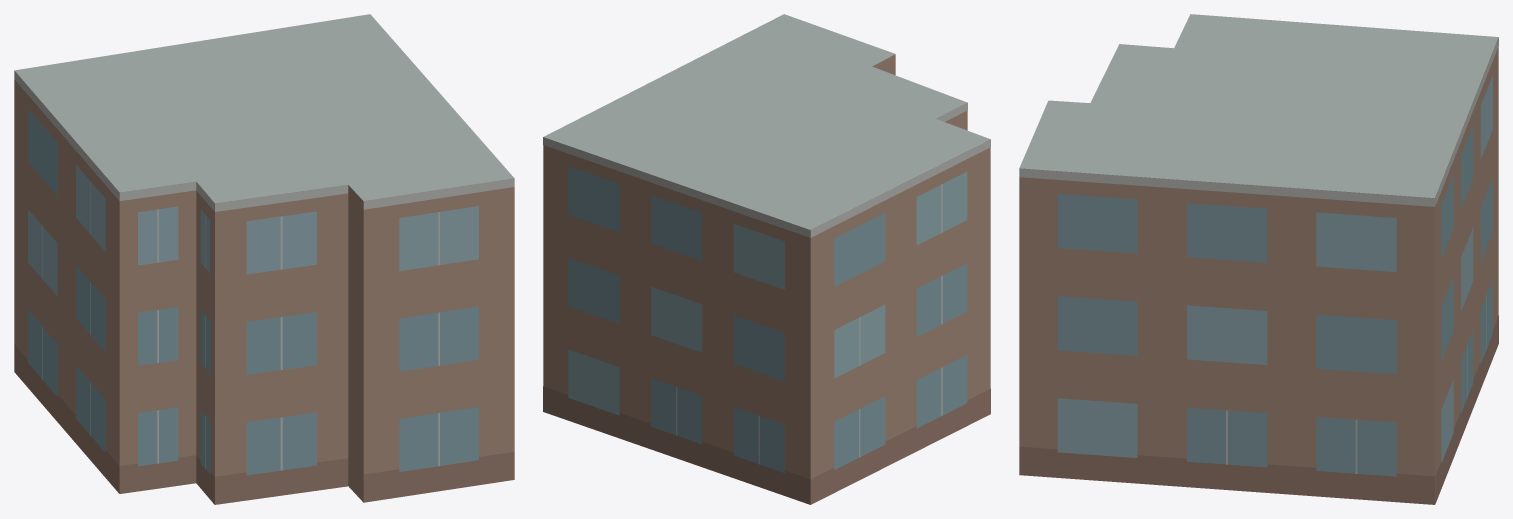
The model's file is survey-upis-32676868.glb.
The picture shows the model from 3 angles, left to right: view 1: azimuth 30°, elevation 25°; view 2: azimuth 150°, elevation 25°; view 3: azimuth 270°, elevation 25°; orthographic projection. The views are drawn at different scales.
Visible parts, largest first — view 1: survey-upis-32676868.tmp; view 2: survey-upis-32676868.tmp; view 3: survey-upis-32676868.tmp.
Part boxes in pixels (x1,y1,x2,y2): survey-upis-32676868.tmp: [14, 14, 514, 504]; survey-upis-32676868.tmp: [543, 14, 990, 504]; survey-upis-32676868.tmp: [1019, 14, 1498, 504].
Bounding box in the file's own units: 10.95 × 8.5 × 12.05.
